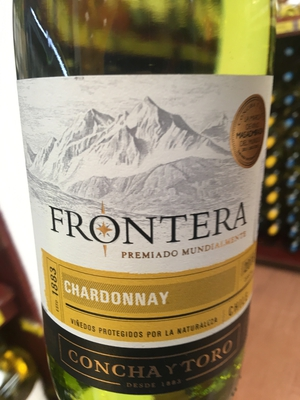frontera chardonnay: (12, 1, 278, 400)
